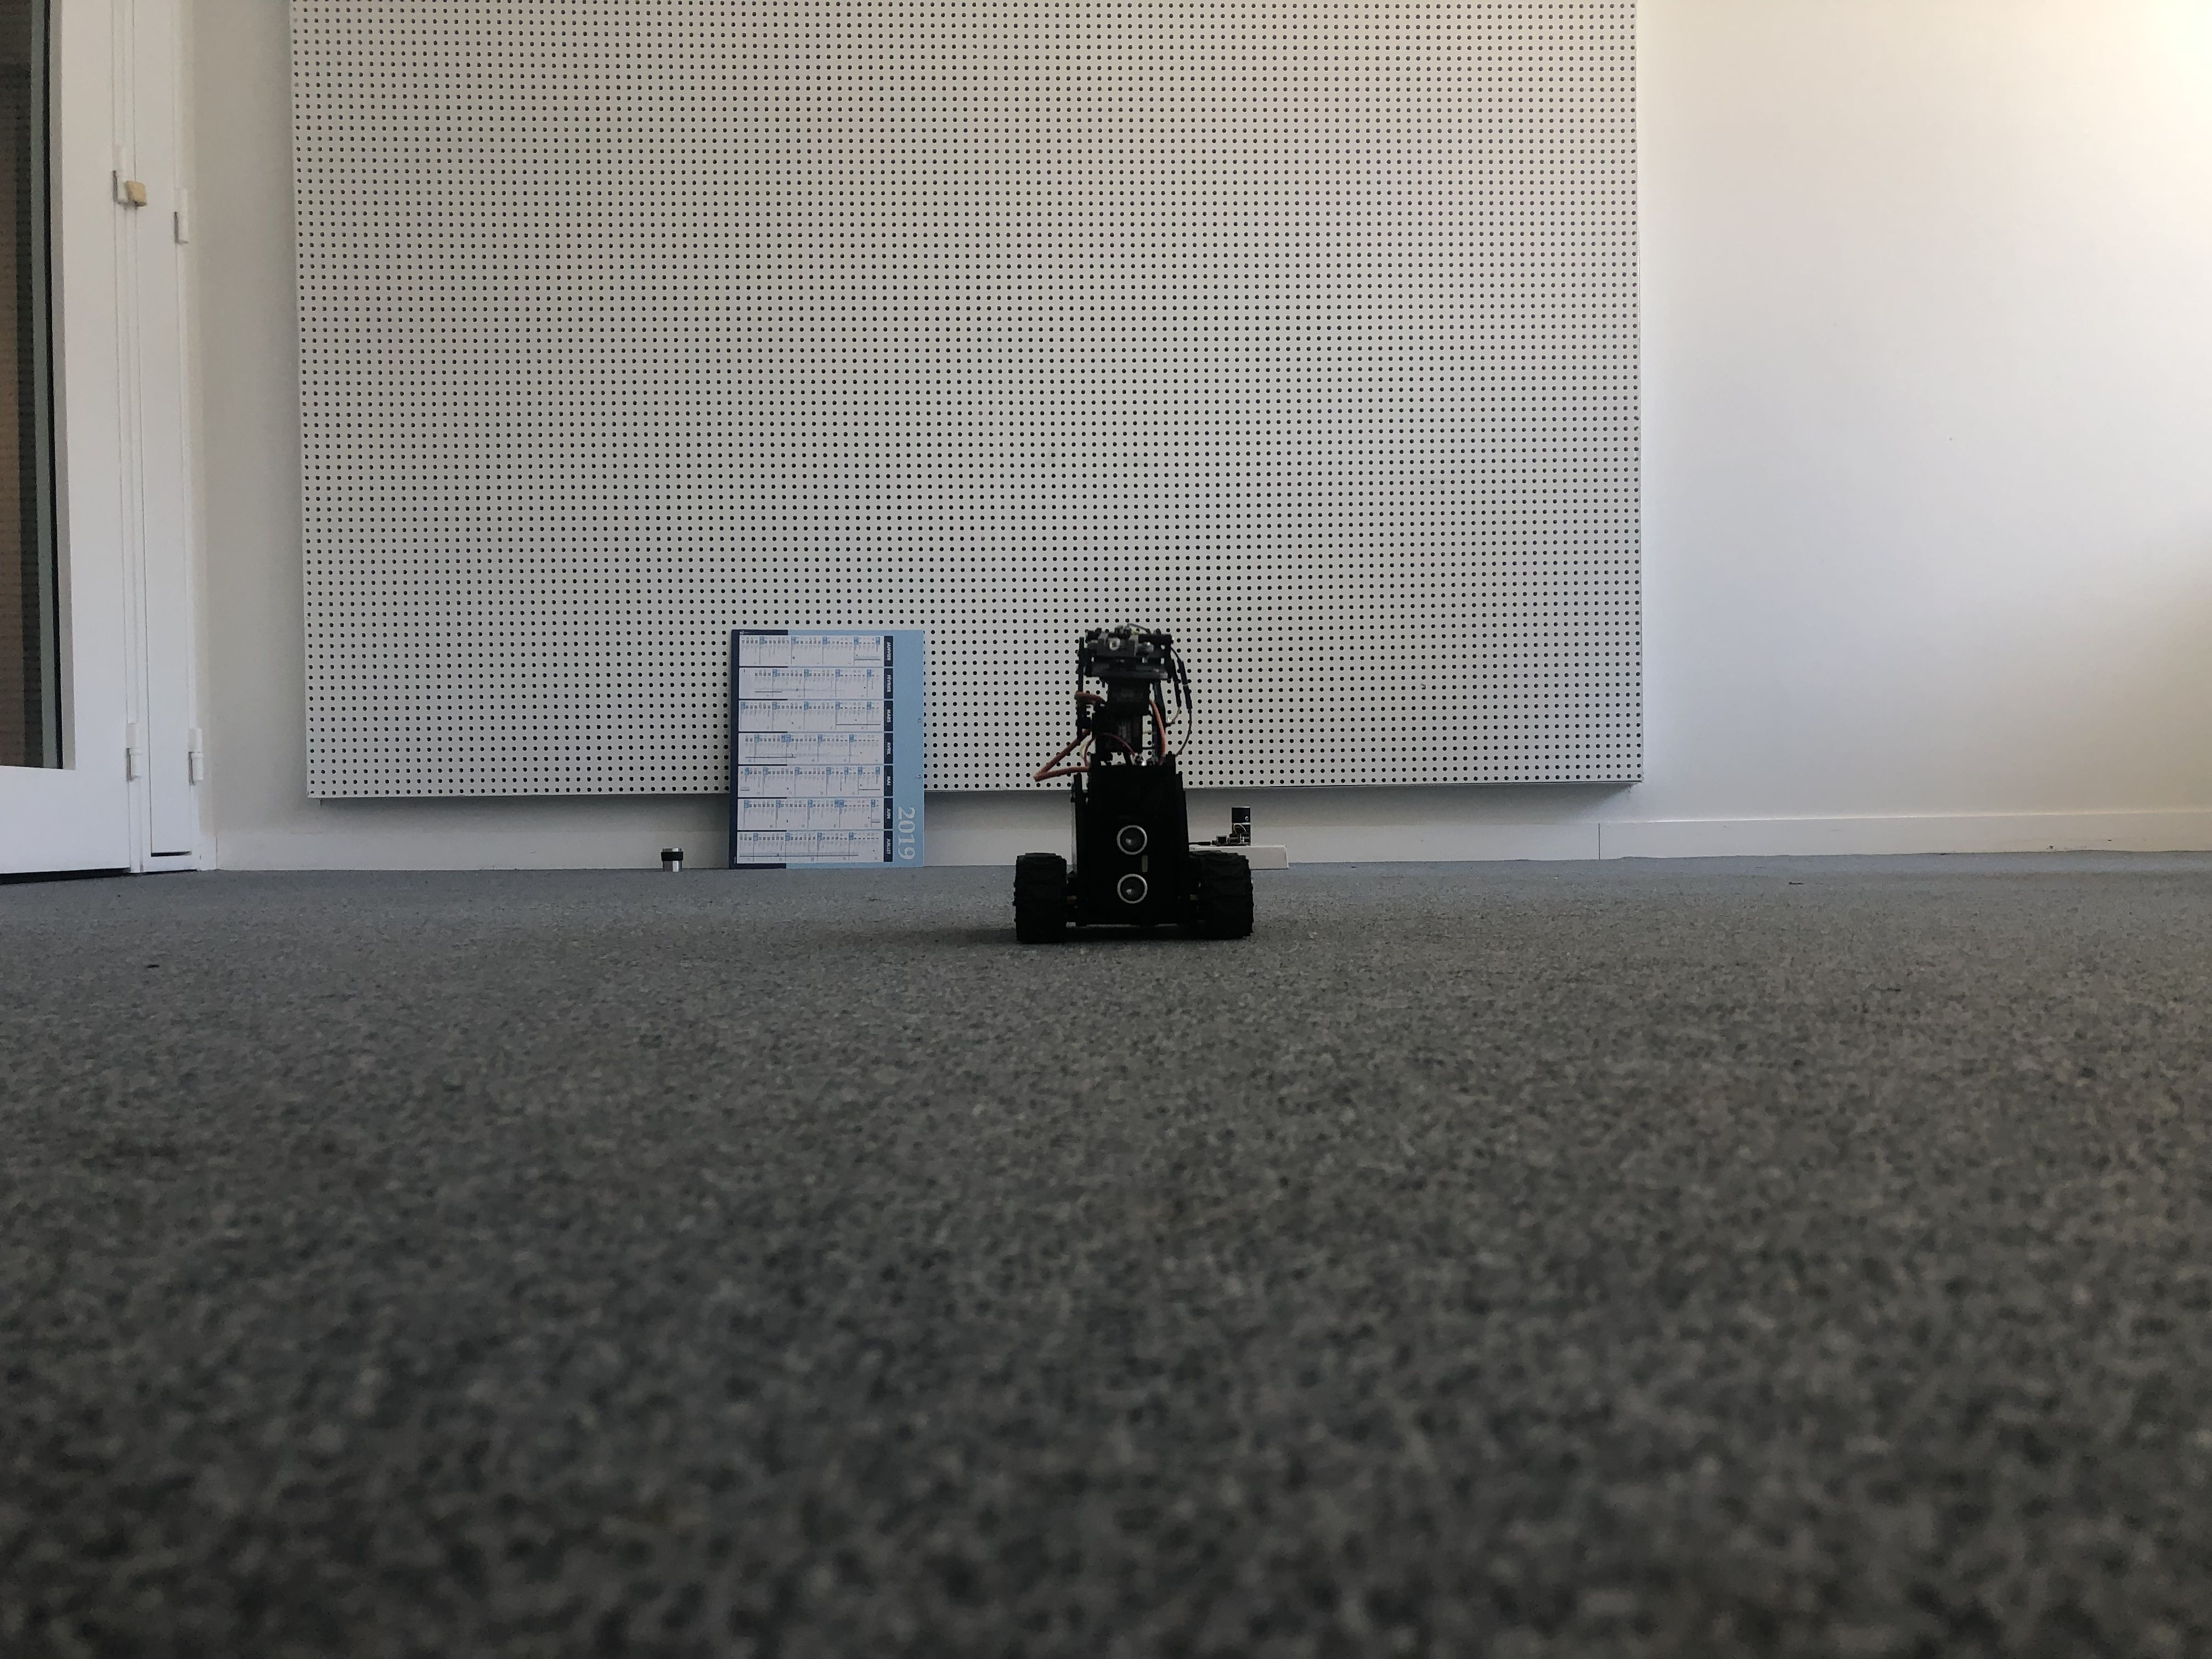rasptank: (1007, 622, 1263, 953)
